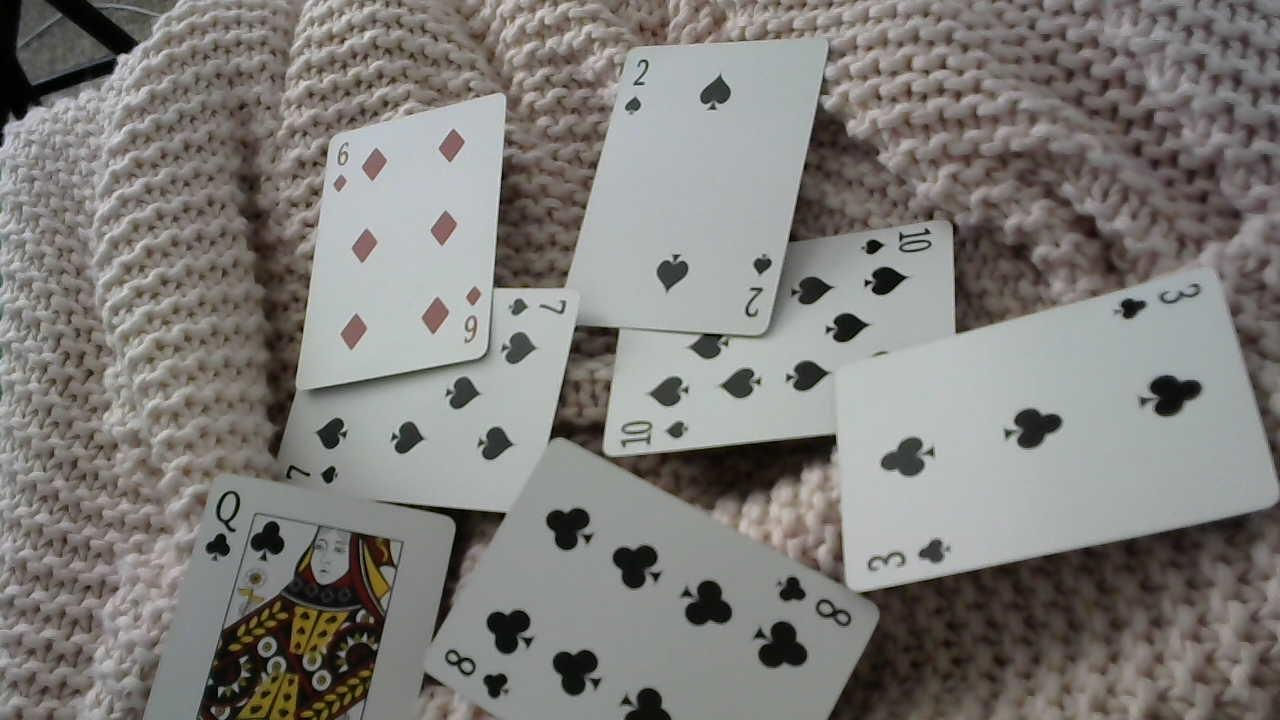10S: (856, 222, 938, 260), (614, 414, 693, 450)
2S: (739, 245, 778, 324), (621, 56, 652, 117)
3C: (1110, 279, 1205, 325), (865, 532, 958, 576)
6D: (457, 281, 483, 345), (331, 135, 355, 197)
7S: (278, 455, 344, 487), (504, 291, 566, 322)
8C: (770, 569, 854, 630), (444, 644, 516, 704)
QC: (201, 486, 242, 565)
